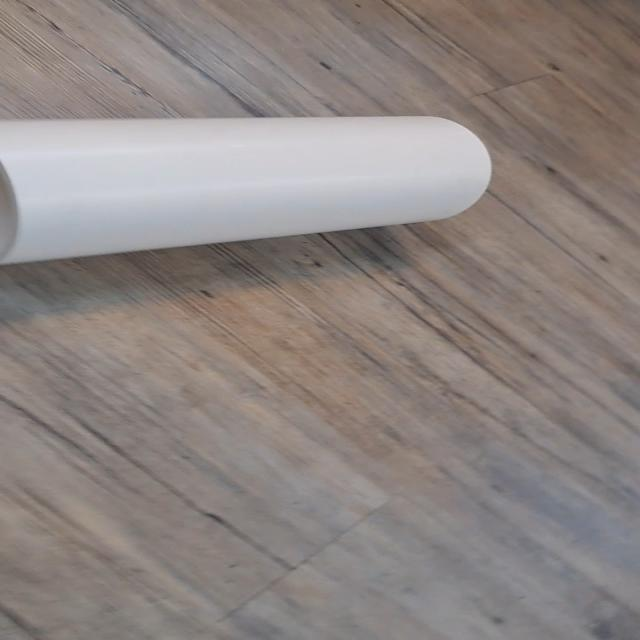CORAL: (0, 106, 509, 270)
